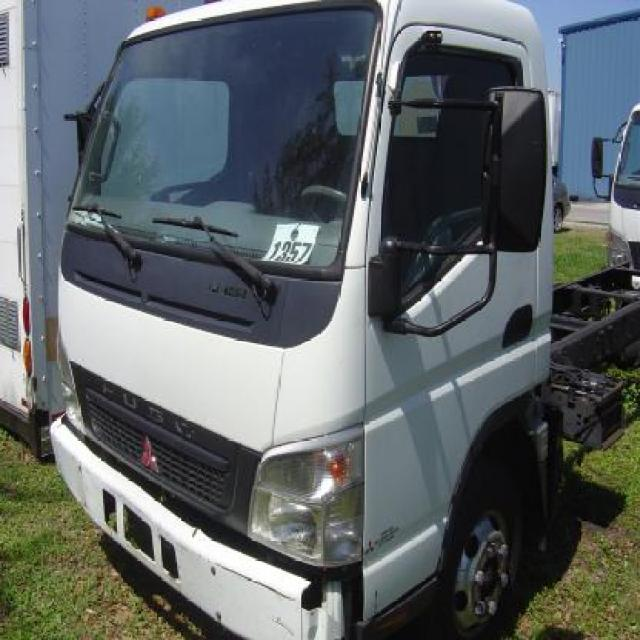truck: (53, 1, 640, 640)
